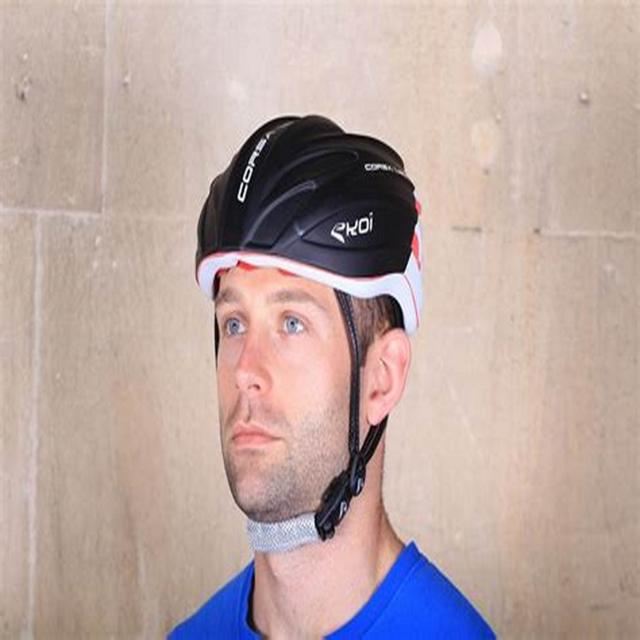illegal_helmet: (189, 106, 428, 561)
